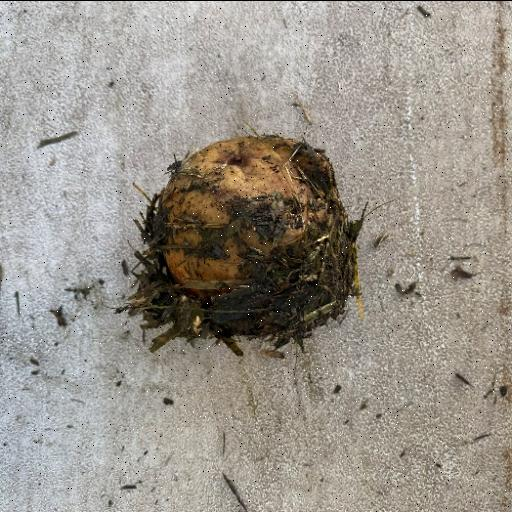Waste: (114, 132, 360, 358)
